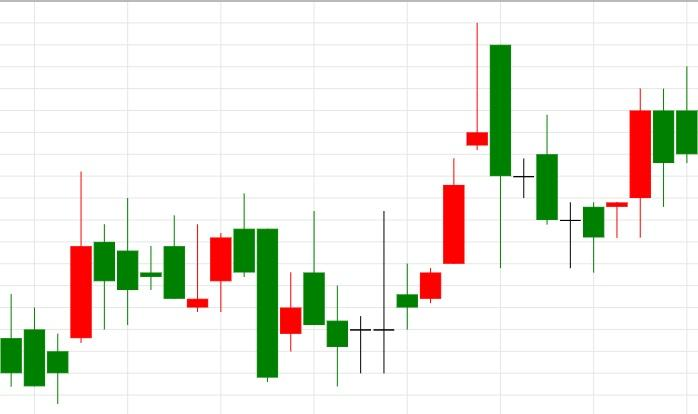shooting_star_fall: (374, 22, 488, 374)
